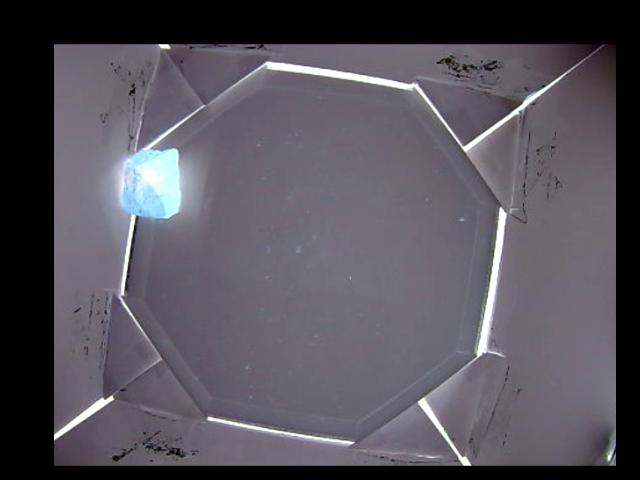Brisk: (118, 146, 183, 218)
